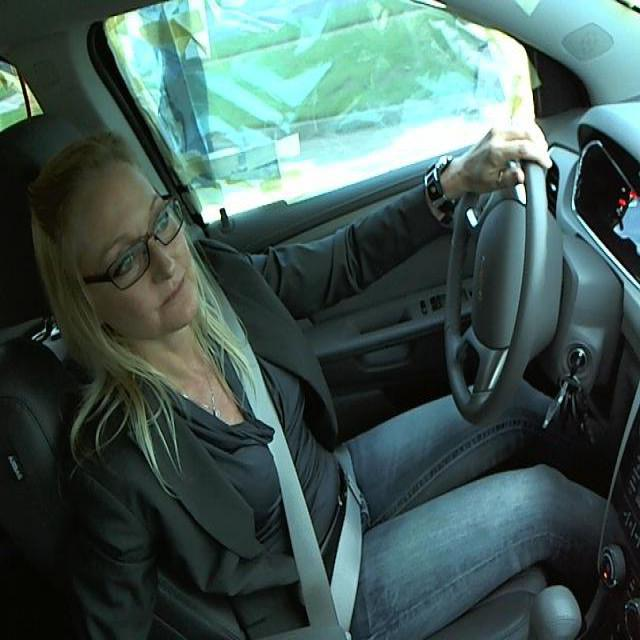seatbelt: (226, 312, 321, 597)
